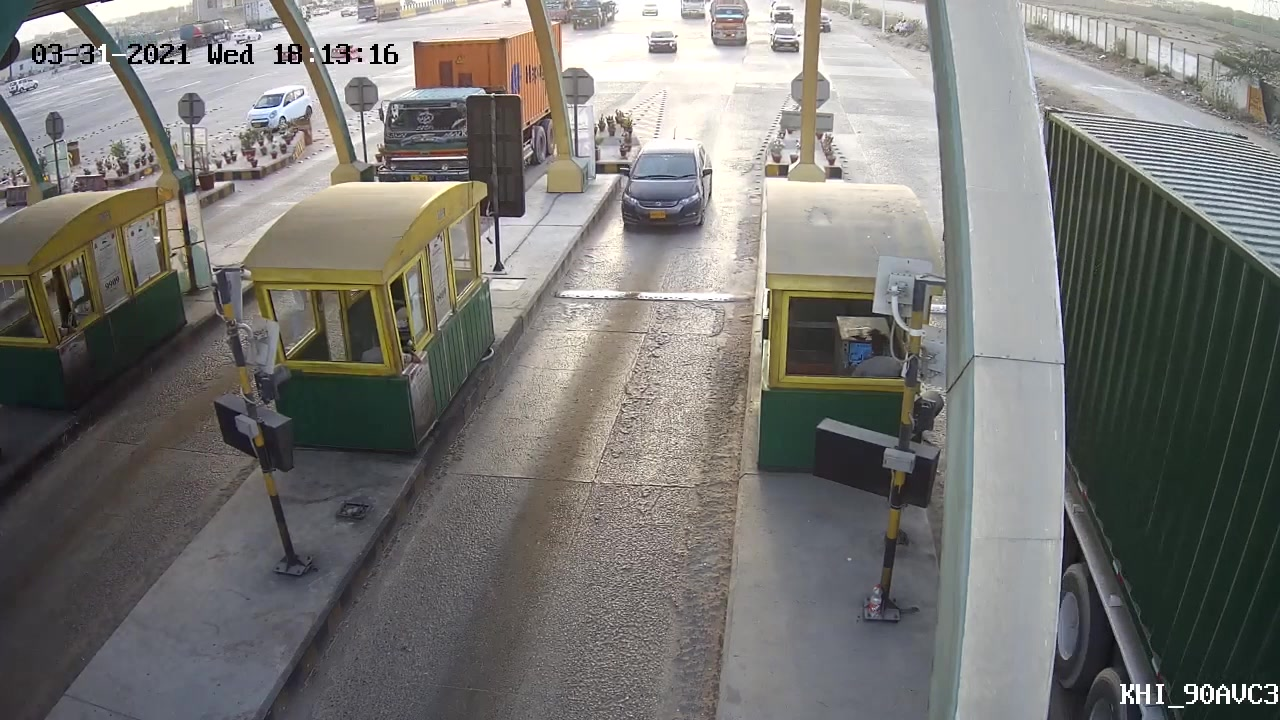F1: (616, 132, 718, 242)
